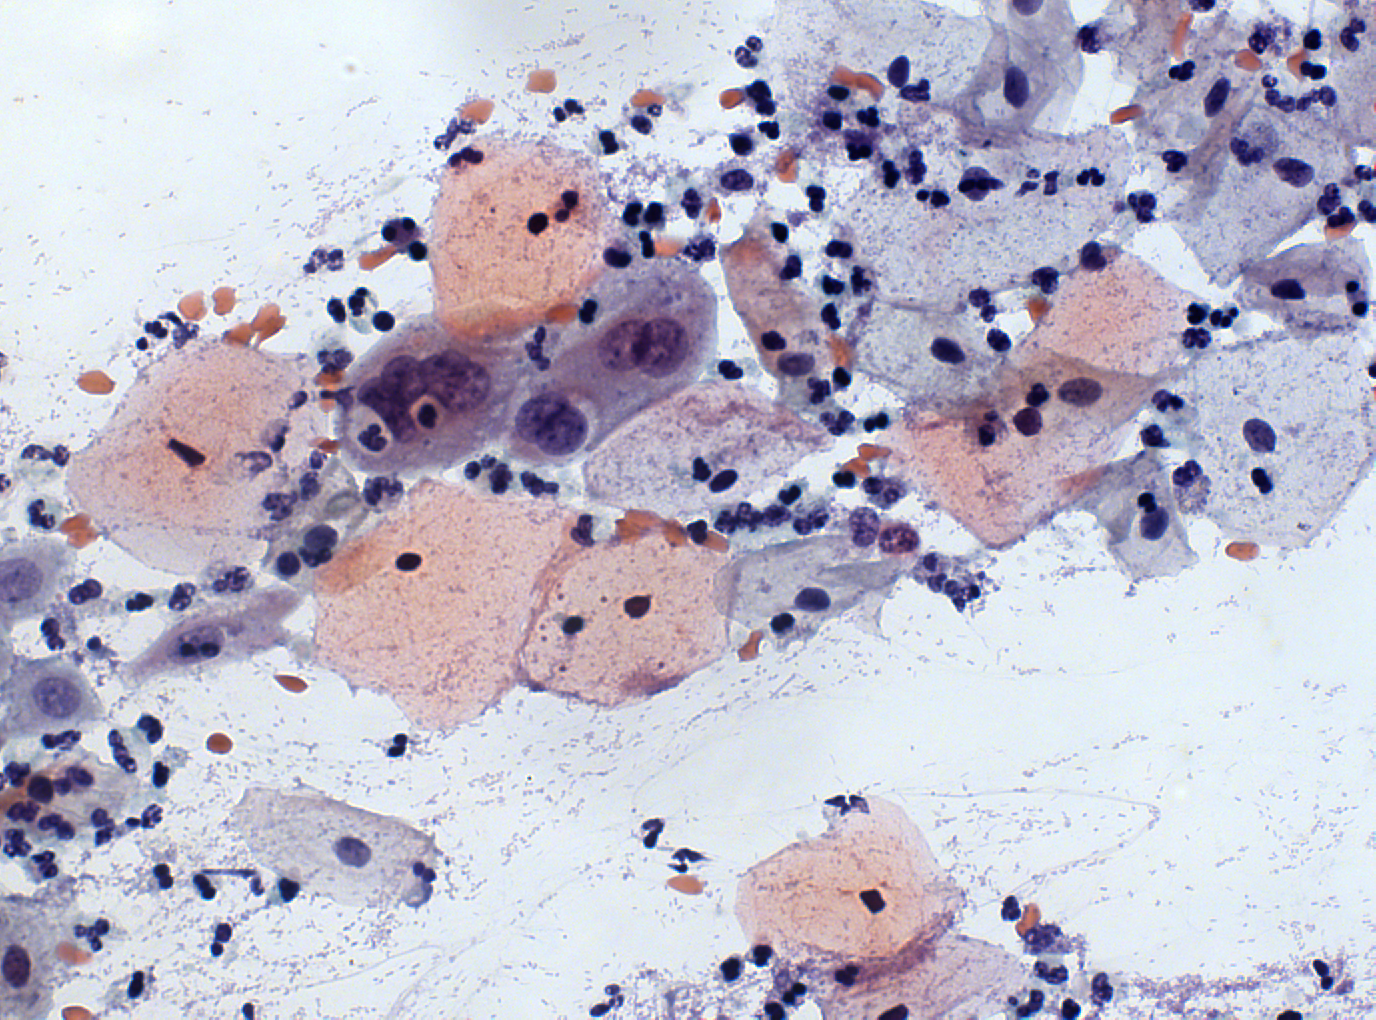Abn: (354, 377, 414, 444), (632, 316, 691, 382), (539, 400, 590, 454), (597, 318, 647, 374), (514, 392, 567, 441), (445, 362, 494, 414), (417, 349, 464, 399), (375, 355, 420, 401)
